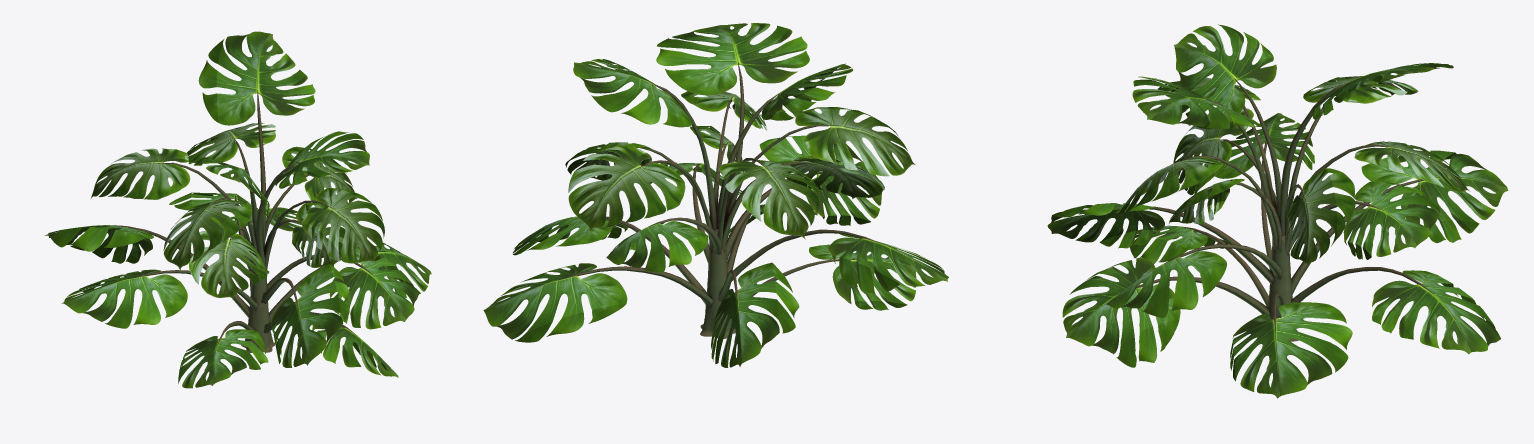
The model's file is monstera_yard.glb.
3 renders of one model, left to right at view 1: azimuth 30°, elevation 25°; view 2: azimuth 150°, elevation 25°; view 3: azimuth 270°, elevation 25°, orthographic. The views are drawn at different scales.
Visible parts, largest first — view 1: tree.006SM_MZRa_Monstera_B071; view 2: tree.006SM_MZRa_Monstera_B071; view 3: tree.006SM_MZRa_Monstera_B071.
Part boxes in pixels (x1,y1,x2,y2): tree.006SM_MZRa_Monstera_B071: [45, 31, 431, 388]; tree.006SM_MZRa_Monstera_B071: [483, 23, 948, 367]; tree.006SM_MZRa_Monstera_B071: [1047, 24, 1508, 398].
Size of the model in its own units: 3.47 by 2.47 by 3.27.
Materials: 3 (3 with a texture image).
